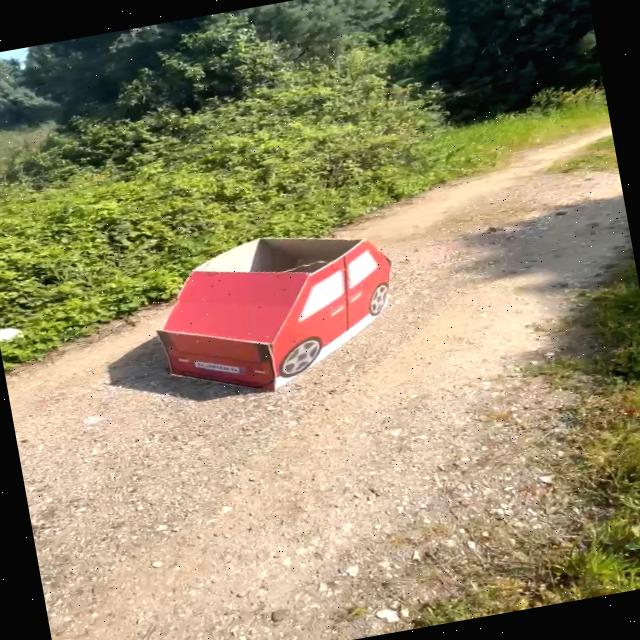red_car: (125, 207, 429, 421)
